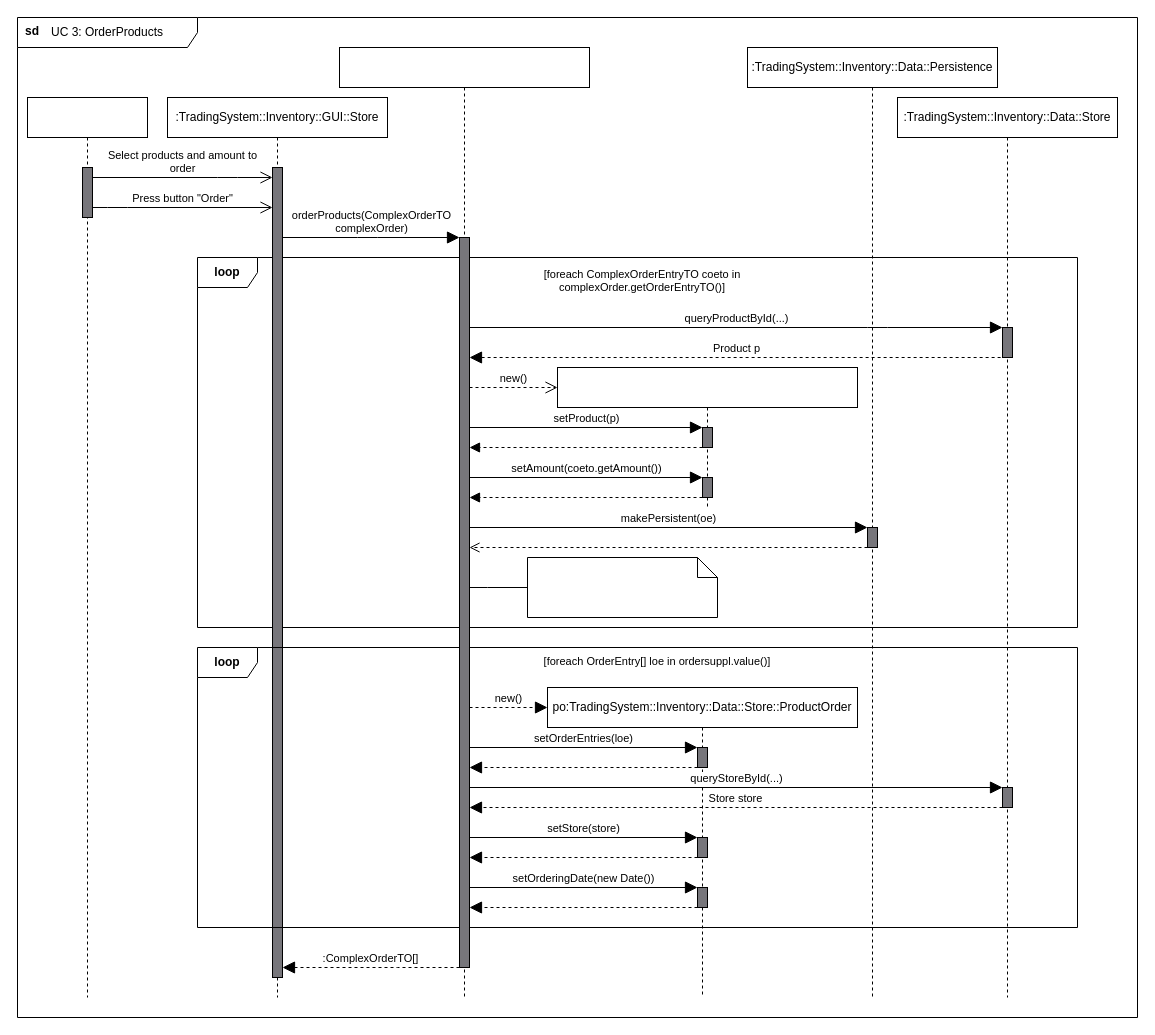
Image size: 1155x1035. Some labels were removed from this diagram. The shapes that lost their labels are listed below. From the top down, each one's box as (x1, y1, x2, y2) in pixels, then its label:
(556, 366, 858, 508): oe:TradingSystem::Inventory::Data::Store::OrderEntry
(338, 46, 590, 998): :TradingSystem::Inventory::Application::Store
(26, 96, 148, 998): :StoreManager
(526, 556, 718, 618): get supplier and add order entry to that supplier
